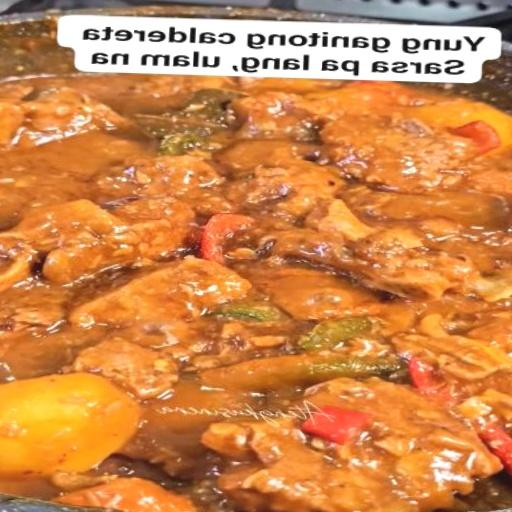pork caldereta: (0, 71, 511, 511)
